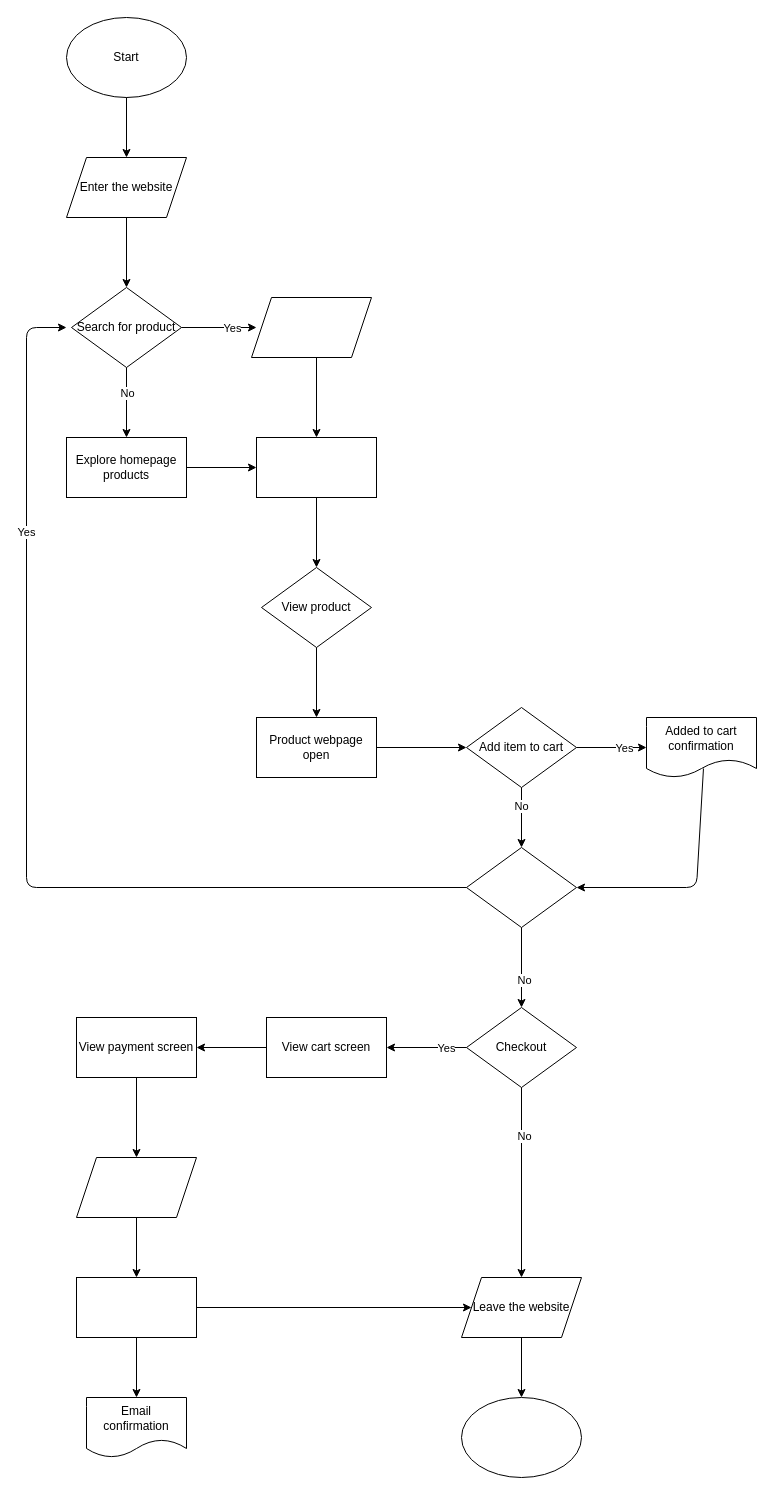
The diagram is 774 pixels wide and 1495 high, and some of its shapes have lost their labels. Here are the shapes that lost their labels. From the top down, the centre of each, then its label:
the point at 311,327: Enter search terms
the point at 316,467: Look over product
the point at 521,887: Continue shopping
the point at 136,1187: Input payment information
the point at 136,1307: Order confirmation screen
the point at 521,1437: End
